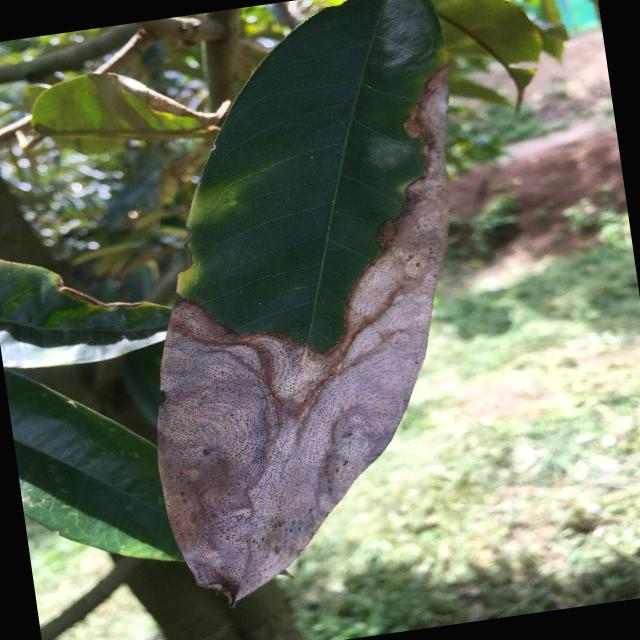Leaf Blight: (88, 0, 527, 622)
